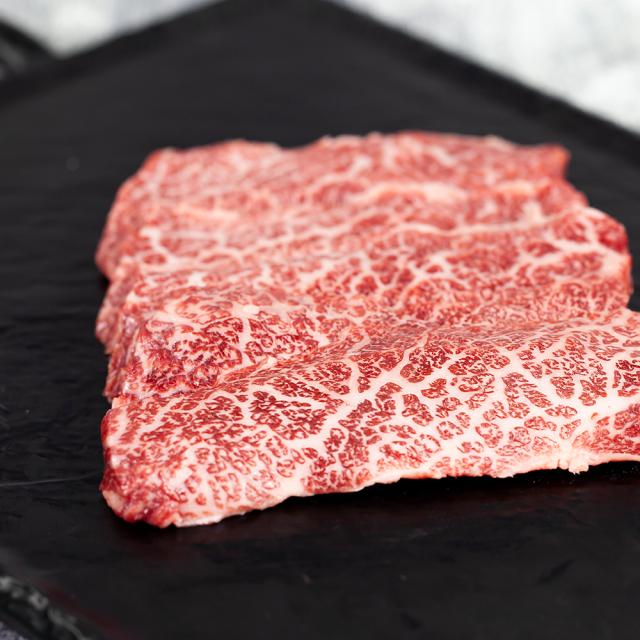beef: (142, 163, 605, 468)
